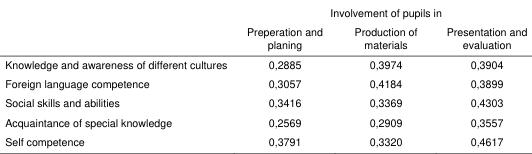table: (4, 4, 526, 148)
table column: (4, 4, 236, 148), (236, 4, 337, 148), (431, 4, 526, 148), (337, 4, 431, 148)
table column header: (4, 4, 526, 53)
table row: (4, 21, 526, 53), (4, 53, 526, 73), (4, 111, 526, 131), (4, 73, 526, 92), (4, 92, 526, 111), (4, 4, 526, 21), (4, 131, 526, 148)
table spanning cell: (236, 4, 526, 21)
